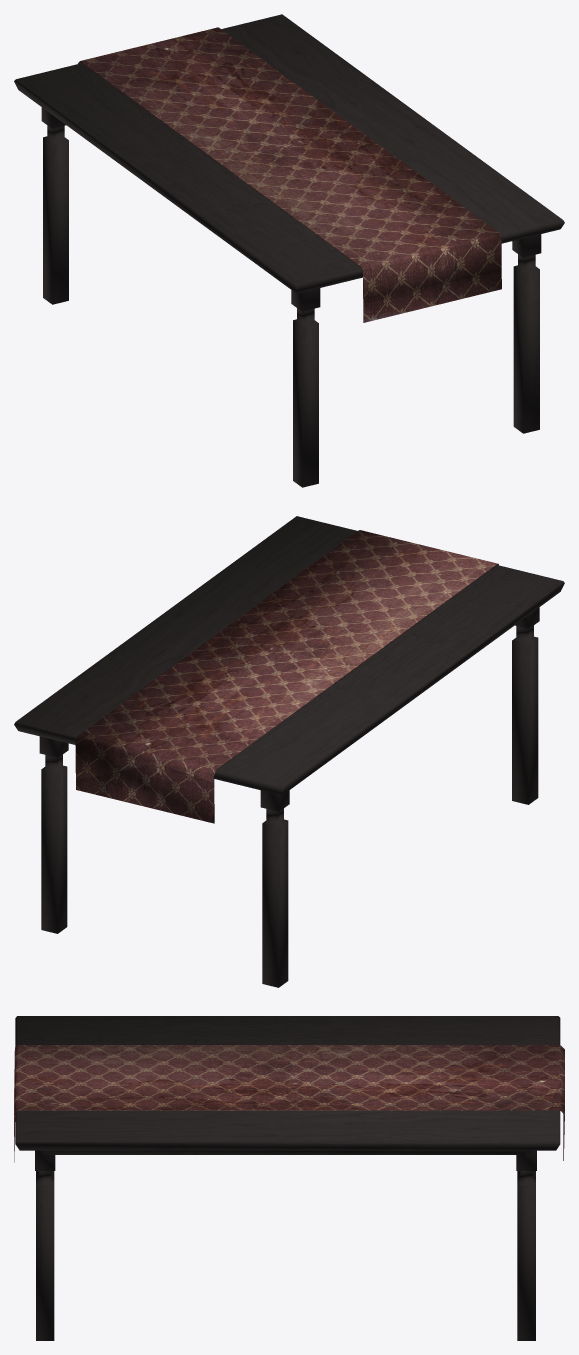
File: FPH_Table.fbx
3 views of the same model, one above another, from view 1: azimuth 30°, elevation 25°; view 2: azimuth 150°, elevation 25°; view 3: azimuth 270°, elevation 25° (orthographic). The views are drawn at different scales.
Visible parts, largest first — view 1: FPH_Table; view 2: FPH_Table; view 3: FPH_Table.
Boxes of the visible parts, x1,y1,x2,y2 form: FPH_Table: (14, 14, 564, 487); FPH_Table: (14, 516, 564, 987); FPH_Table: (14, 1016, 564, 1340).
Bounding box in the file's own units: 5.72 × 4.39 × 10.56.
